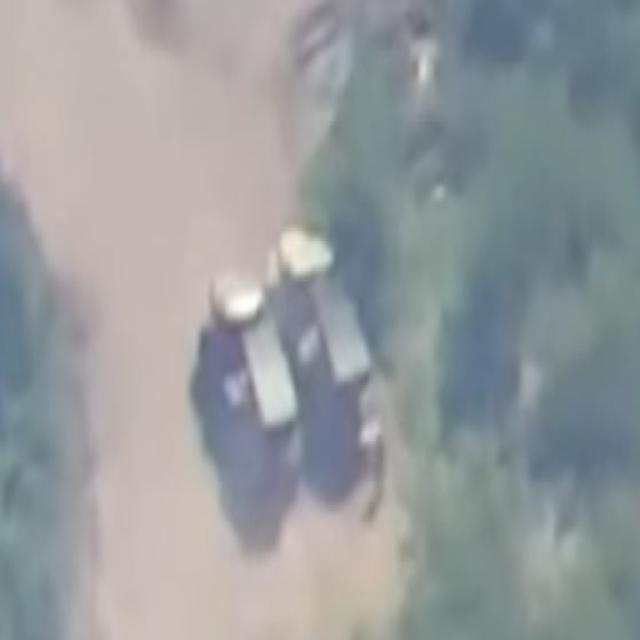MLRS: (266, 214, 382, 484), (202, 261, 298, 475)
